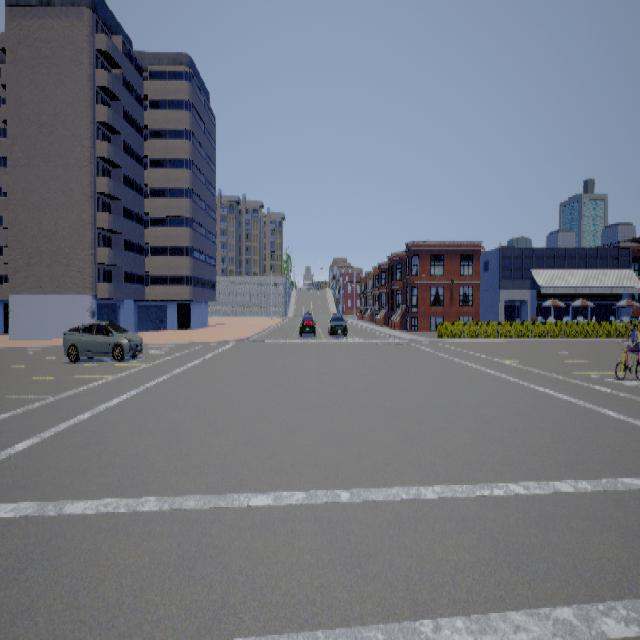bike: (609, 322, 640, 382)
vehicle: (64, 320, 144, 362), (296, 308, 320, 340), (328, 310, 351, 337)
